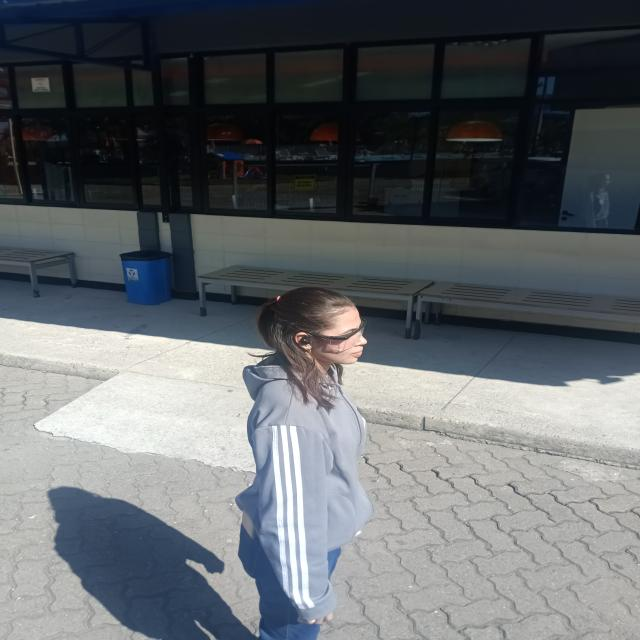oculos-epi: (307, 317, 365, 351)
